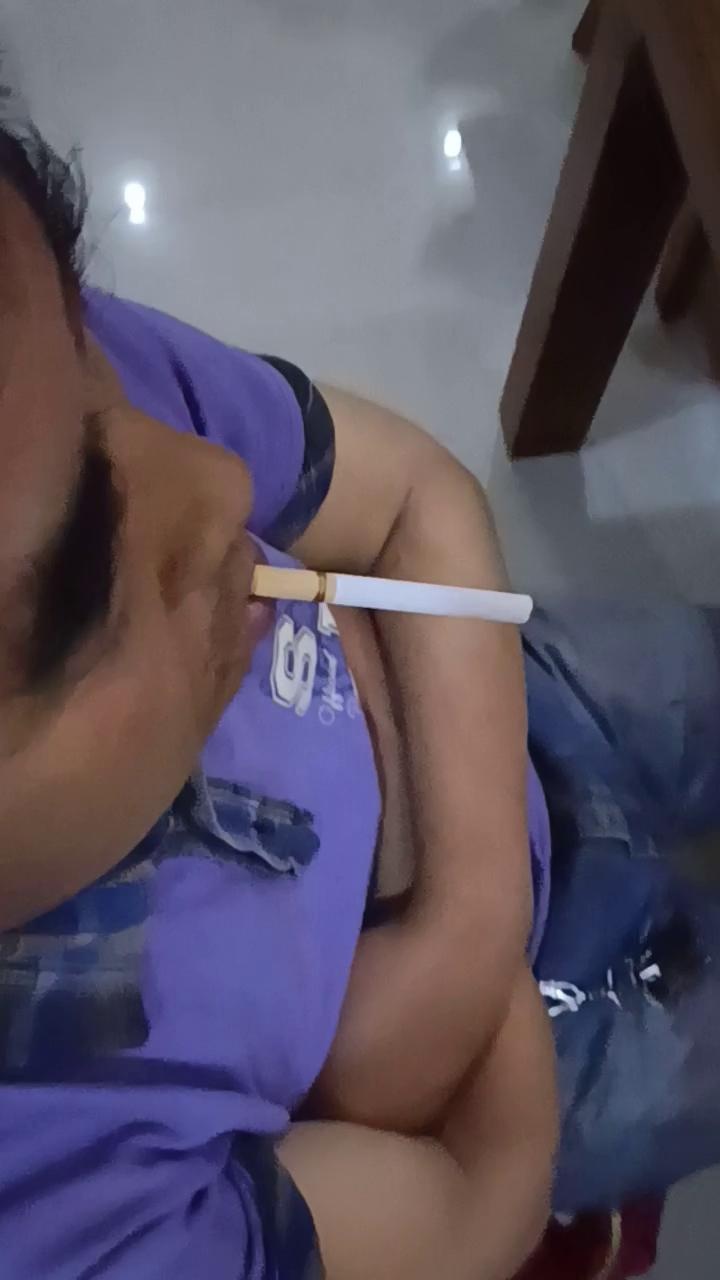smoke: (246, 568, 539, 626)
